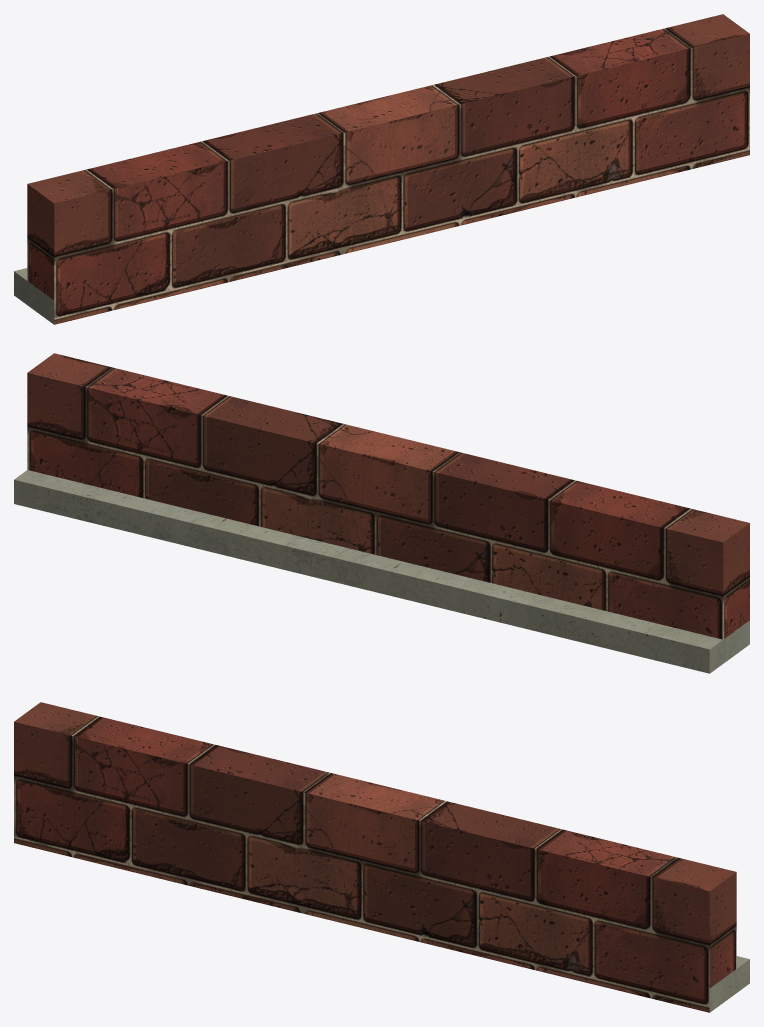
The model's file is roof02_edge.fbx.
The picture shows the model from 3 angles, top to bottom: view 1: azimuth 30°, elevation 25°; view 2: azimuth 150°, elevation 25°; view 3: azimuth 330°, elevation 25°; orthographic projection.
Visible parts, largest first — view 1: roof02_edge; view 2: roof02_edge; view 3: roof02_edge.
Boxes of the visible parts, x1=… form: roof02_edge: x1=14, y1=14, x2=749, y2=324; roof02_edge: x1=14, y1=353, x2=749, y2=673; roof02_edge: x1=14, y1=702, x2=749, y2=1012.
Size of the model in its own units: 300 by 50 by 30.
